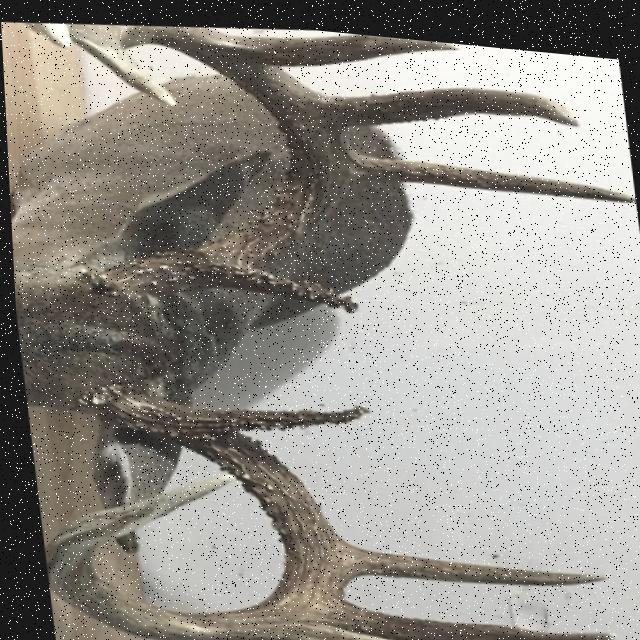L-F: (67, 22, 346, 296)
L-G1: (183, 257, 355, 307)
L-G2: (342, 140, 634, 190)
L-G3: (302, 77, 579, 126)
L-G4: (212, 24, 461, 62)
R-F: (37, 383, 337, 640)
R-G1: (176, 397, 366, 426)
R-G2: (332, 532, 606, 575)
R-G3: (307, 585, 613, 640)
